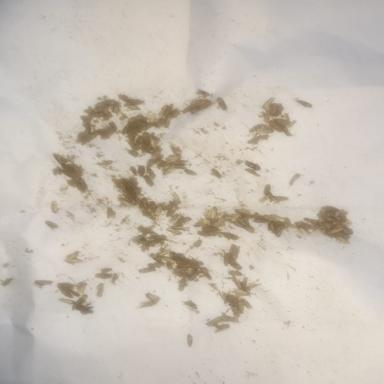pbw: (71, 294, 87, 310), (290, 97, 313, 107), (226, 256, 244, 268), (258, 96, 276, 108), (228, 243, 240, 260), (162, 164, 176, 178), (279, 121, 292, 136), (263, 214, 286, 222), (51, 152, 65, 165), (138, 299, 158, 308), (288, 173, 300, 188), (334, 233, 350, 244), (295, 225, 311, 236), (206, 316, 223, 326), (244, 167, 260, 177), (224, 268, 244, 276), (208, 167, 222, 178), (1, 275, 15, 286), (148, 252, 162, 263), (162, 103, 174, 115), (142, 174, 154, 186), (303, 217, 321, 225), (164, 154, 180, 163), (232, 206, 250, 214), (216, 96, 226, 110), (145, 292, 160, 301), (64, 251, 79, 260), (150, 148, 162, 159), (156, 248, 172, 256), (190, 98, 206, 106), (233, 288, 249, 296), (221, 313, 237, 321), (244, 160, 260, 168), (49, 200, 58, 214), (44, 220, 58, 229), (182, 300, 196, 309), (64, 258, 84, 264), (242, 298, 252, 310), (146, 162, 154, 176), (96, 282, 104, 296), (185, 333, 193, 347), (184, 168, 198, 176), (328, 226, 342, 234), (189, 269, 199, 280), (122, 103, 140, 109), (58, 297, 76, 303), (137, 267, 155, 273), (255, 127, 273, 133), (148, 135, 157, 147), (170, 224, 188, 230), (215, 324, 228, 332), (168, 212, 178, 222), (154, 203, 163, 214), (178, 278, 186, 290), (166, 228, 182, 234), (202, 269, 211, 279), (172, 272, 190, 277), (94, 273, 111, 278), (241, 276, 248, 288), (246, 283, 258, 290), (148, 113, 156, 123), (210, 206, 216, 219), (159, 255, 172, 261), (285, 120, 296, 127), (34, 280, 52, 284), (129, 165, 136, 175), (119, 200, 130, 206), (284, 113, 290, 121)
